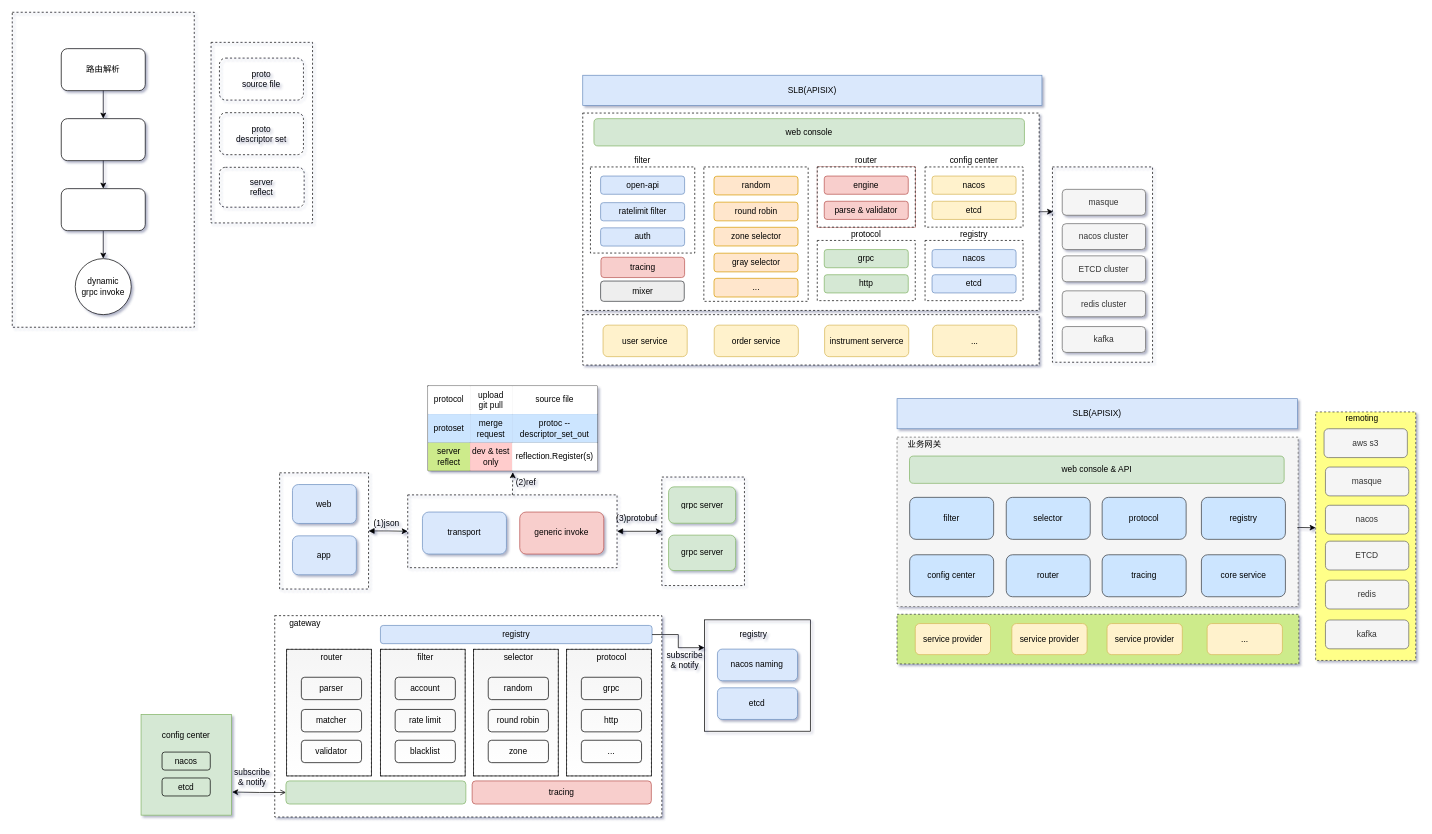
Some shapes in this 1432 by 834 pixel diagram are drawn without their labels. Each missing label, with the box of its shape:
config: (285, 780, 466, 804)
load balancer: (703, 166, 808, 301)
服务发现: (61, 188, 145, 231)
获取protobuf descriptor: (61, 118, 145, 161)
